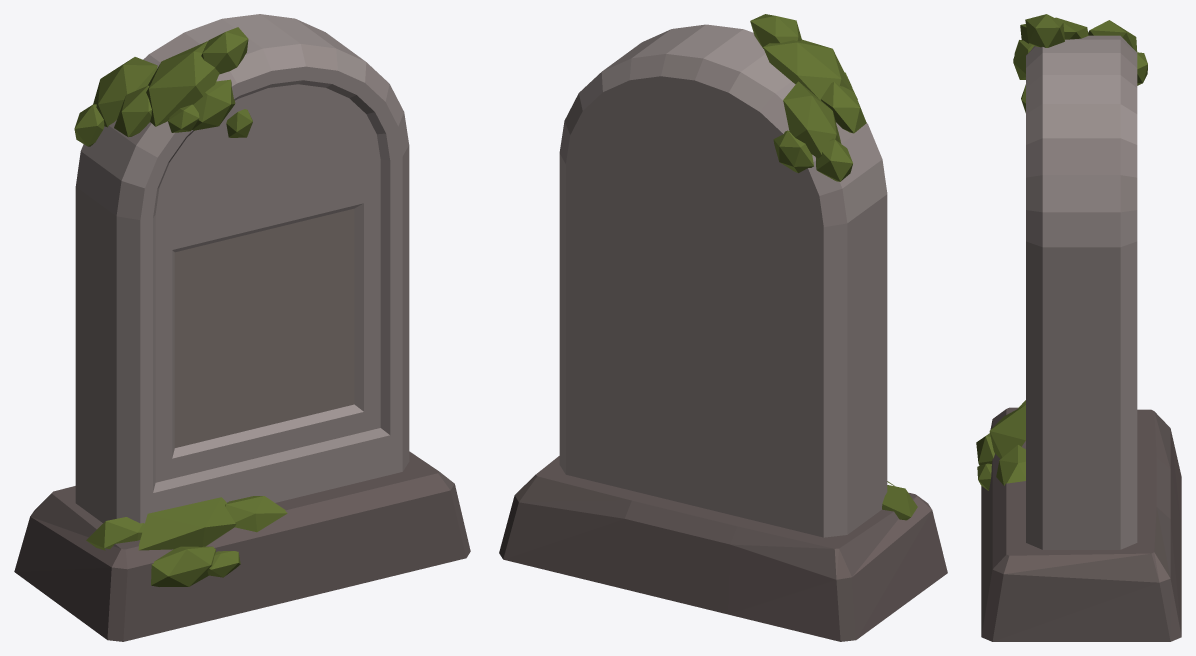
File: carved-headstone-09d9f8.glb
The picture shows the model from 3 angles, left to right: view 1: azimuth 30°, elevation 25°; view 2: azimuth 150°, elevation 25°; view 3: azimuth 270°, elevation 25°; orthographic projection. The views are drawn at different scales.
Visible parts, largest first — view 1: headstone; view 2: headstone; view 3: headstone.
Part boxes in pixels (box(x1,y1,x2,y2)): headstone: box(14, 14, 470, 641); headstone: box(499, 14, 947, 641); headstone: box(976, 14, 1181, 641).
Bounding box in the file's own units: 0.72 × 1.04 × 0.3693.
